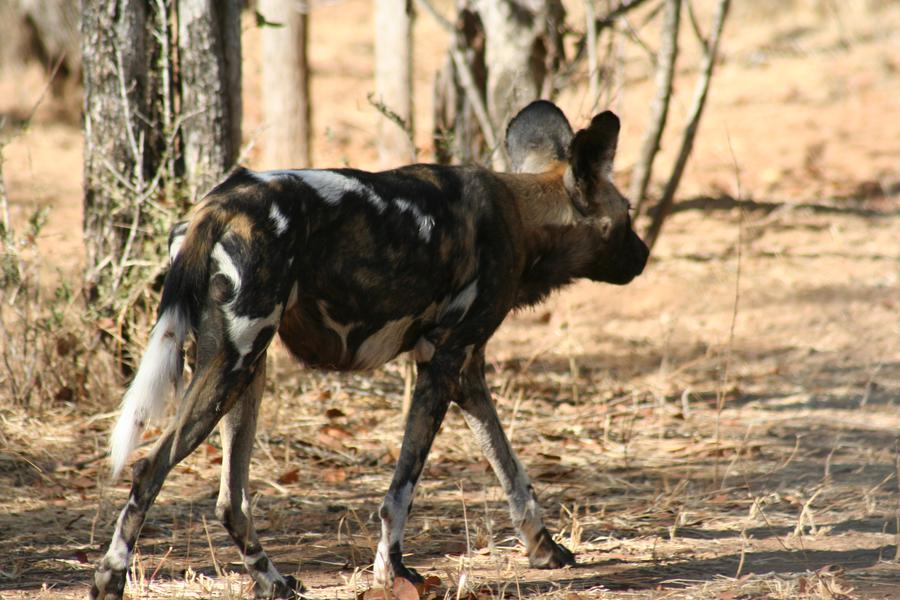wilddog: (155, 116, 650, 414)
